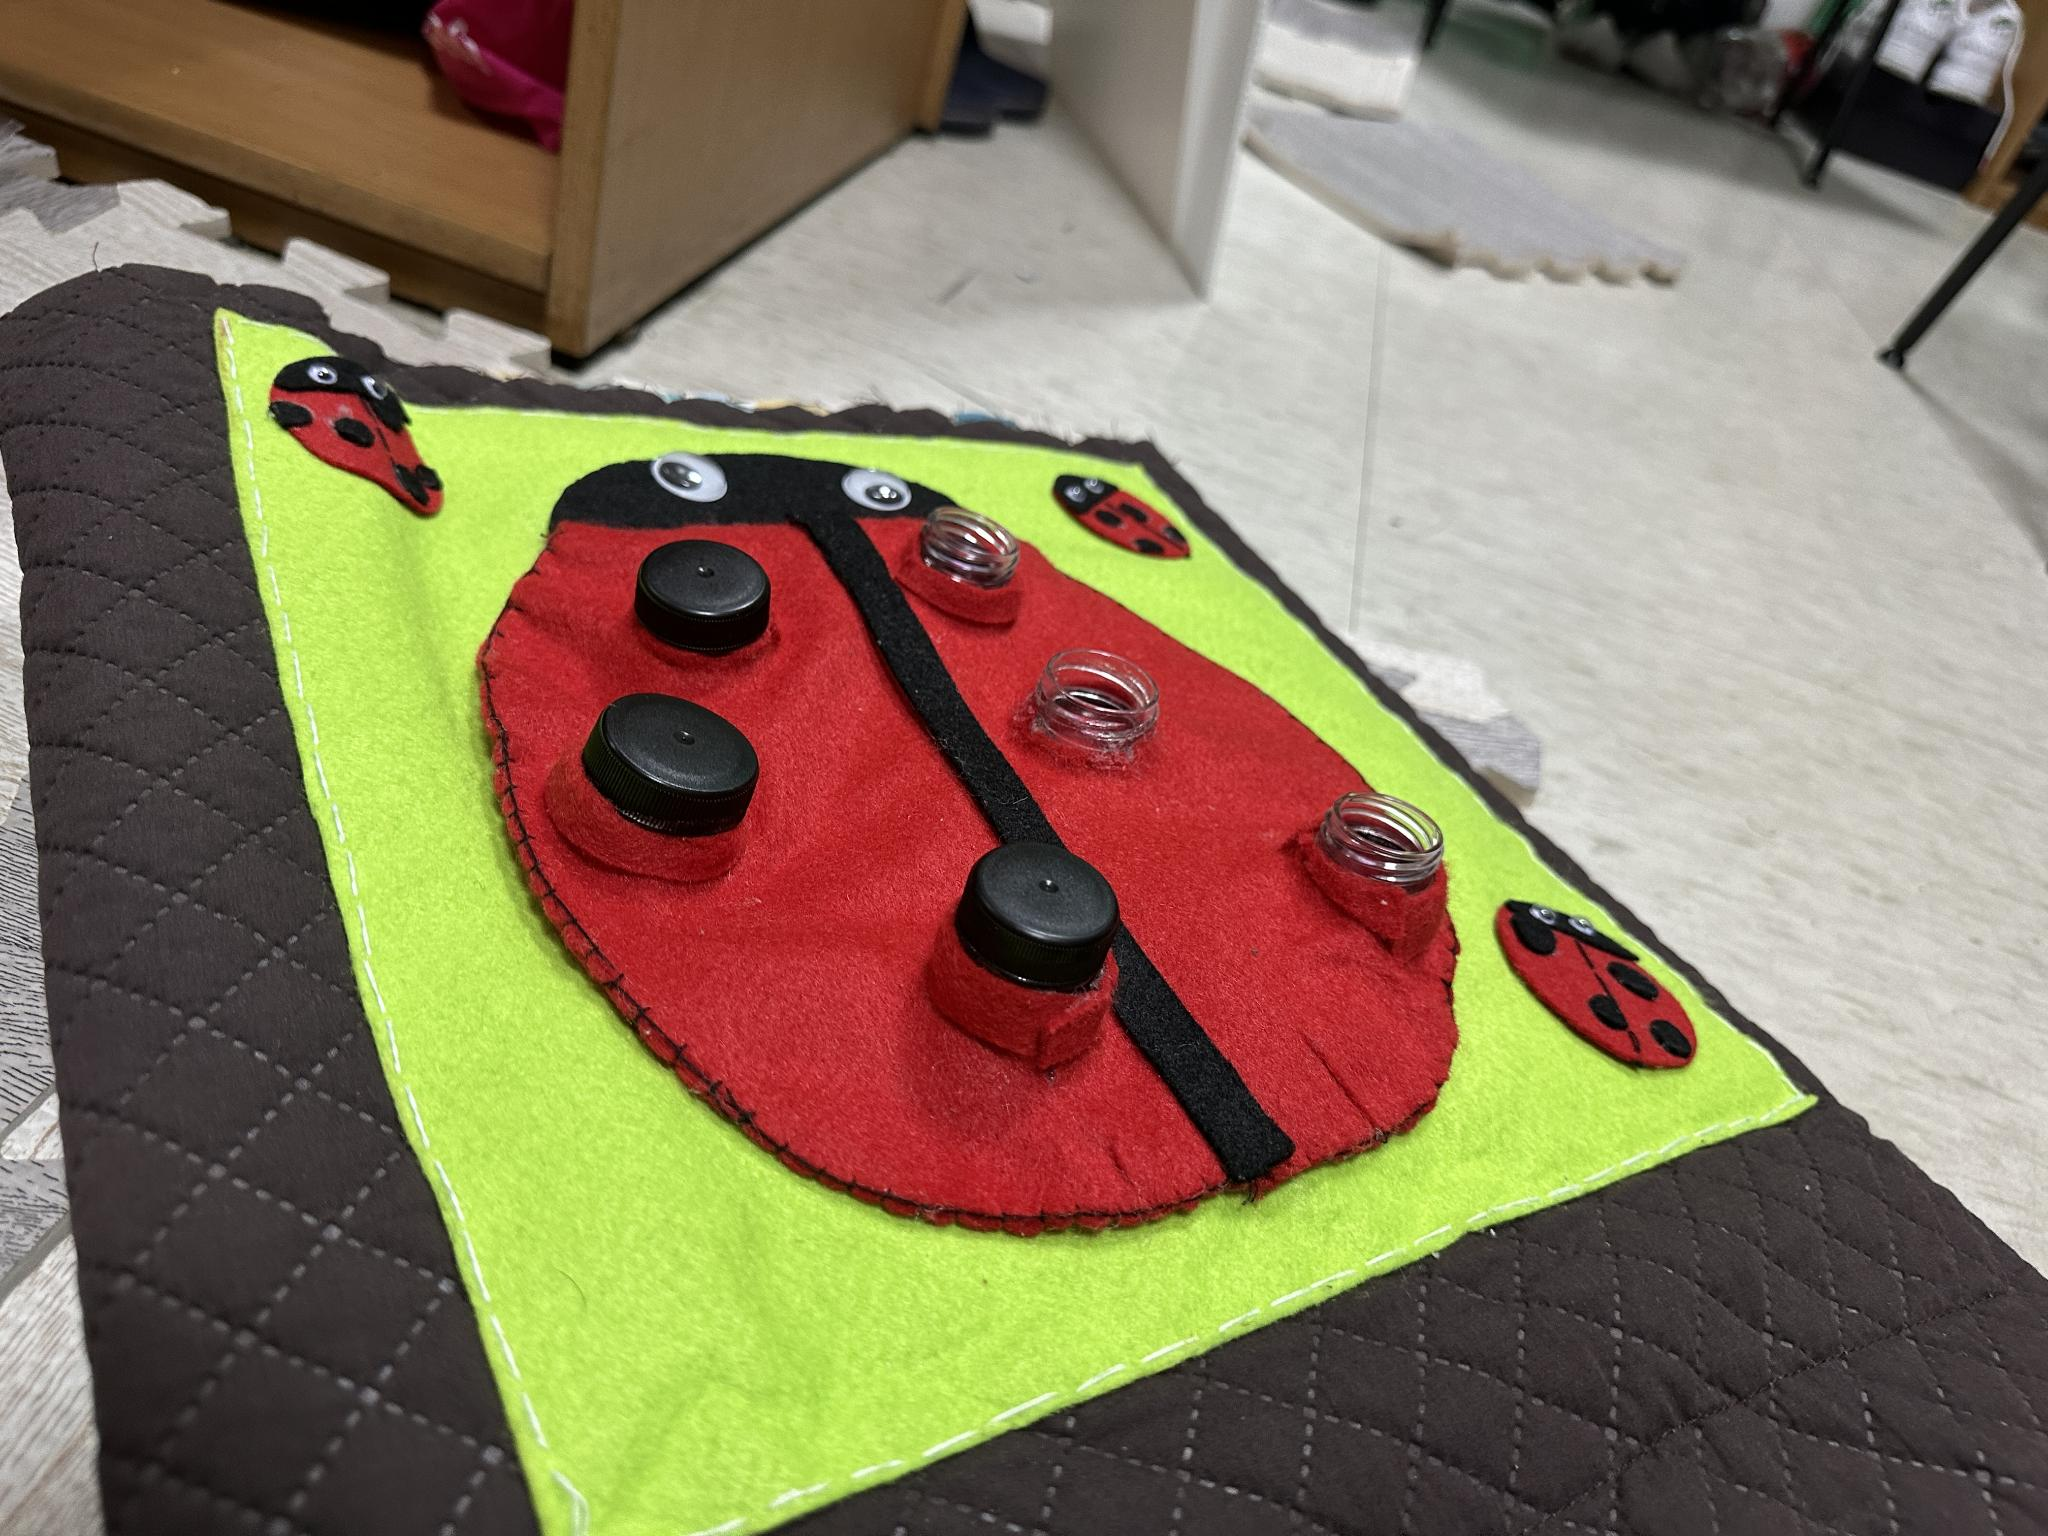cap_ok: (924, 816, 1156, 1078), (556, 676, 784, 902), (614, 513, 810, 684)
